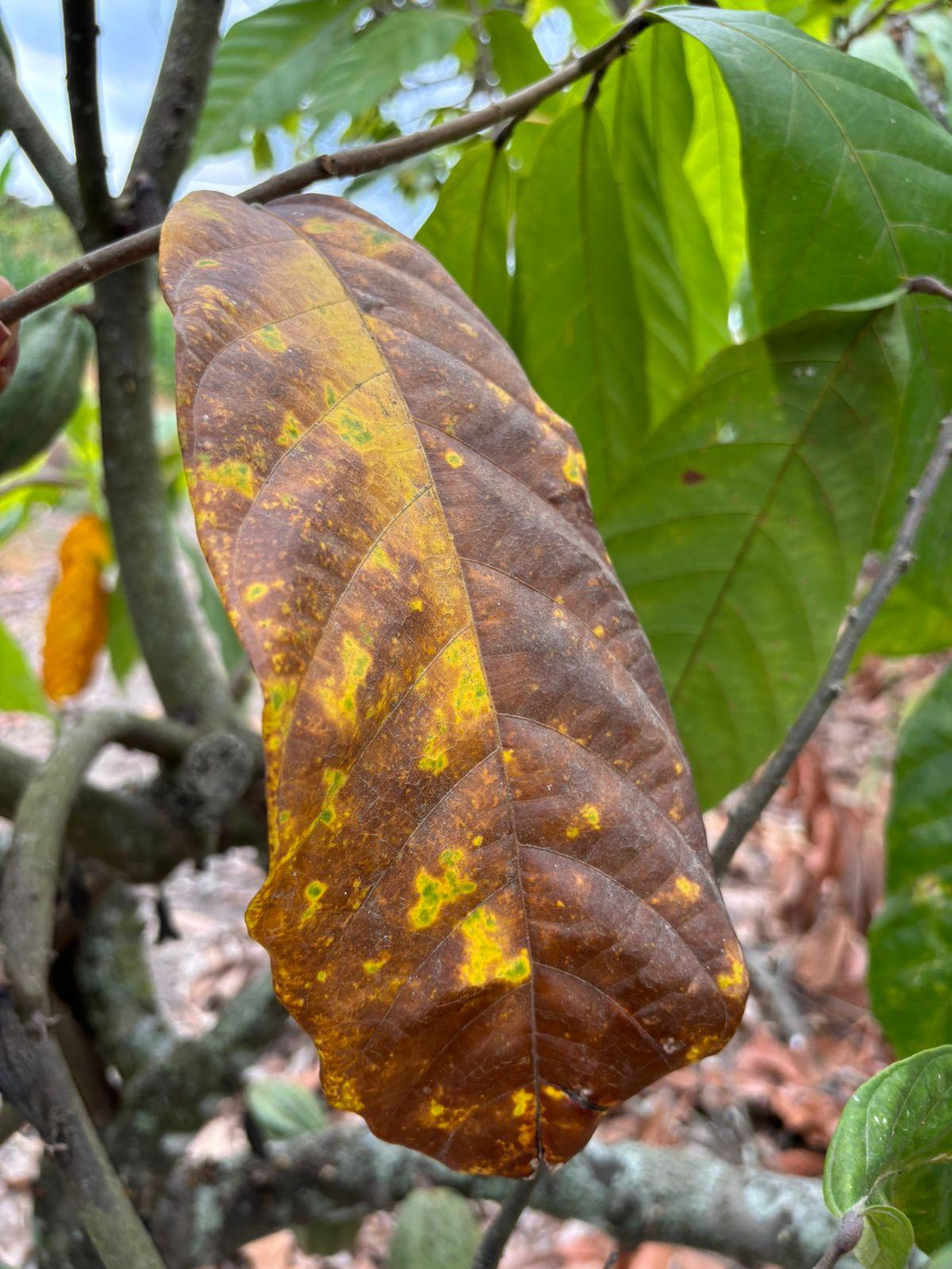deficienciia_fosforo: (161, 193, 747, 1177)
